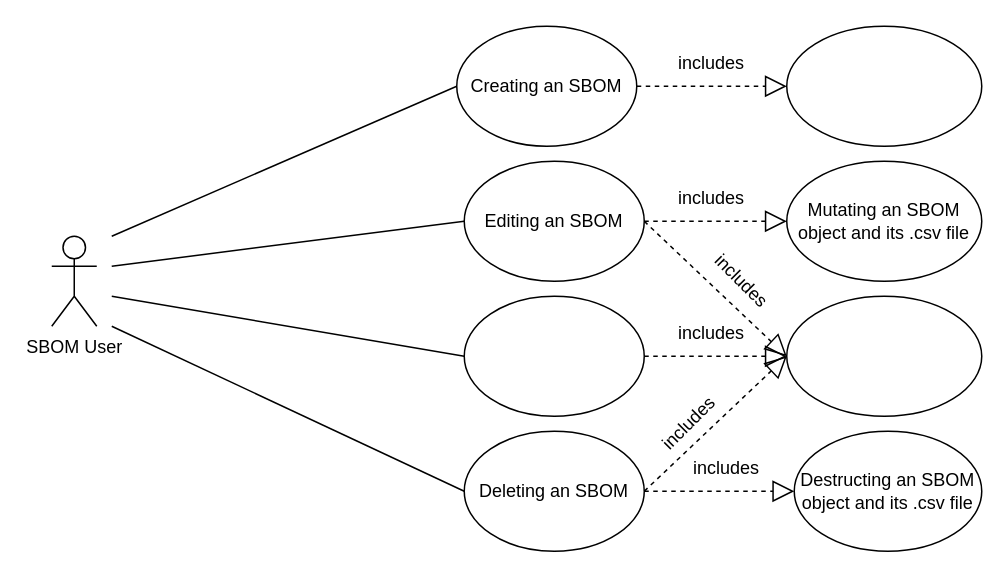
This 1008x578 diagram has some shape labels left out. Here are the shapes that lost their labels. From the top down, the box of each, then its label:
(785, 25, 982, 146): Allocating an SBOM object and its .csv file
(463, 295, 644, 416): Exporting an SBOM
(785, 295, 982, 416): Accessing an SBOM object and its.csv file
